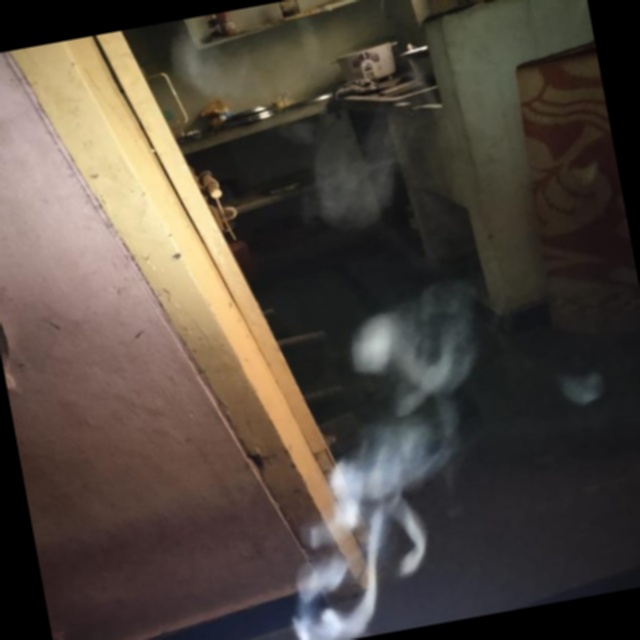smoke: (240, 307, 487, 640)
